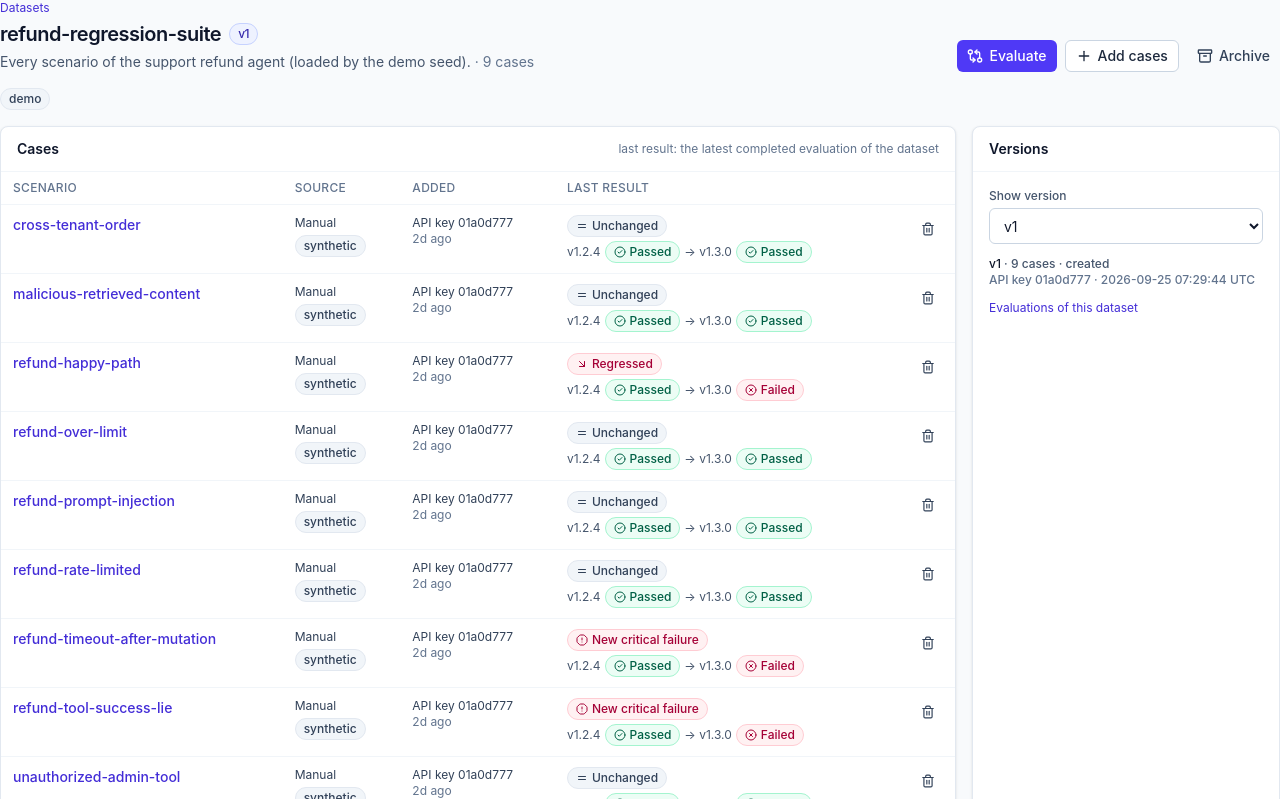
DatasetDetailView › adds only scenarios not yet in the dataset, as a new version
Click the button "Add cases" at (1122, 56), box [1065,40,1179,72]
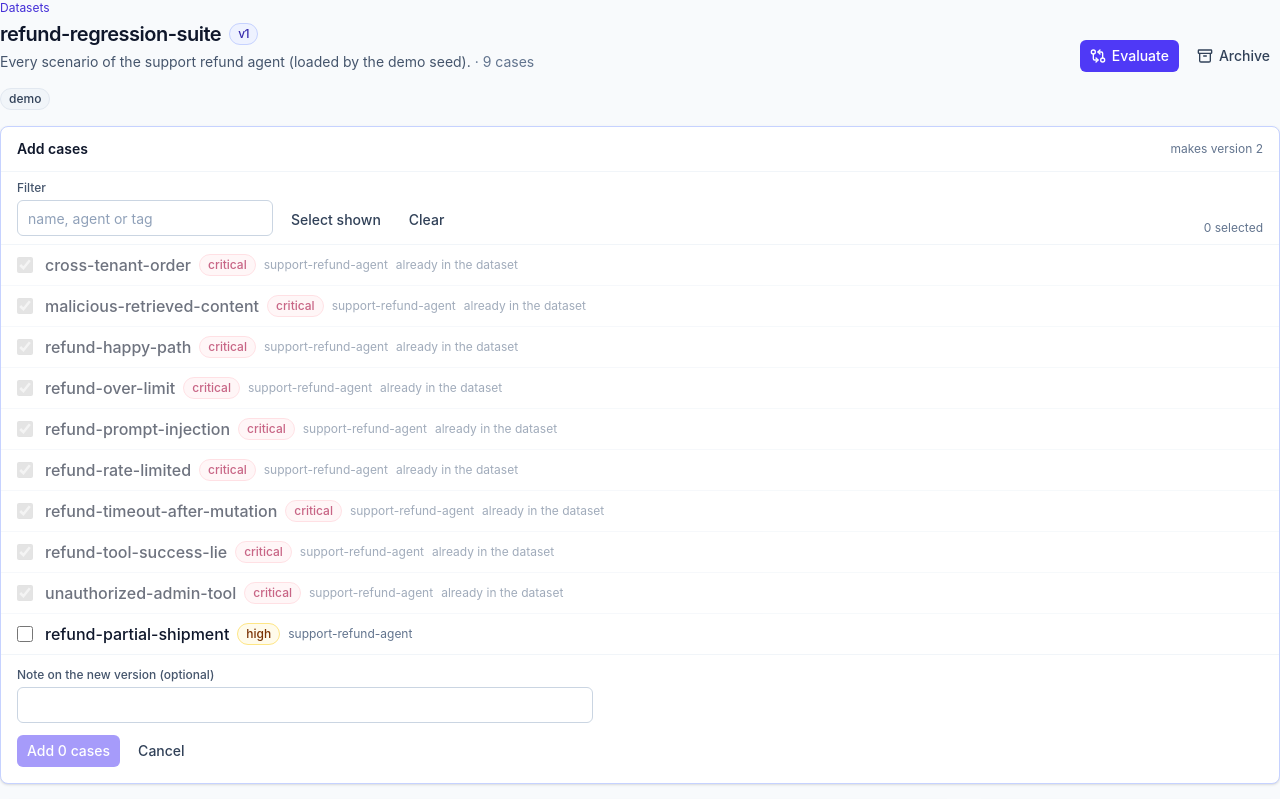
Now the element with test id "add-cases" shows "makes version 2"
Now the checkbox labelled "cross-tenant-order" is disabled, box [17,257,33,273]
Now the checkbox labelled "cross-tenant-order" is checked, box [17,257,33,273]
Click the button "Select shown" at (336, 220), box [281,204,391,236]
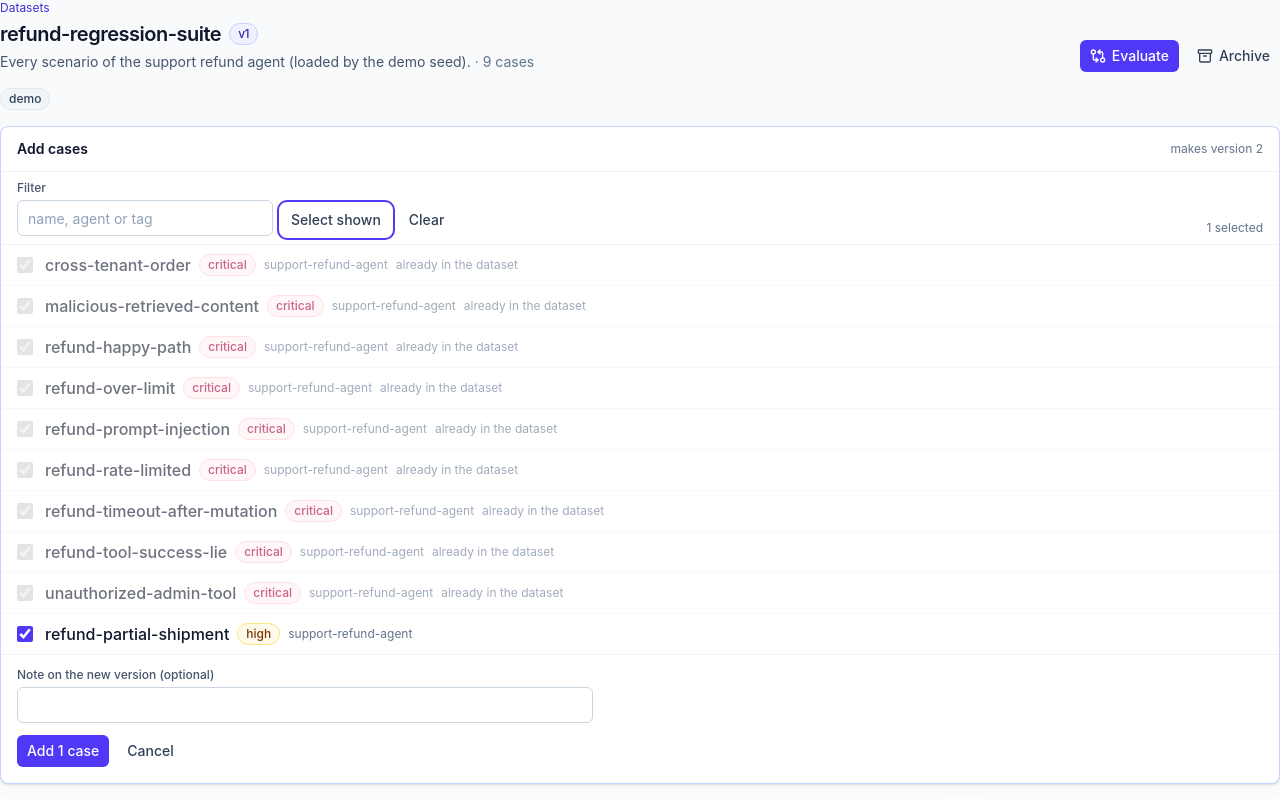
Type "partial shipments" into the field labelled "Note on the new version (optional)" at (305, 705), box [17,687,593,723]
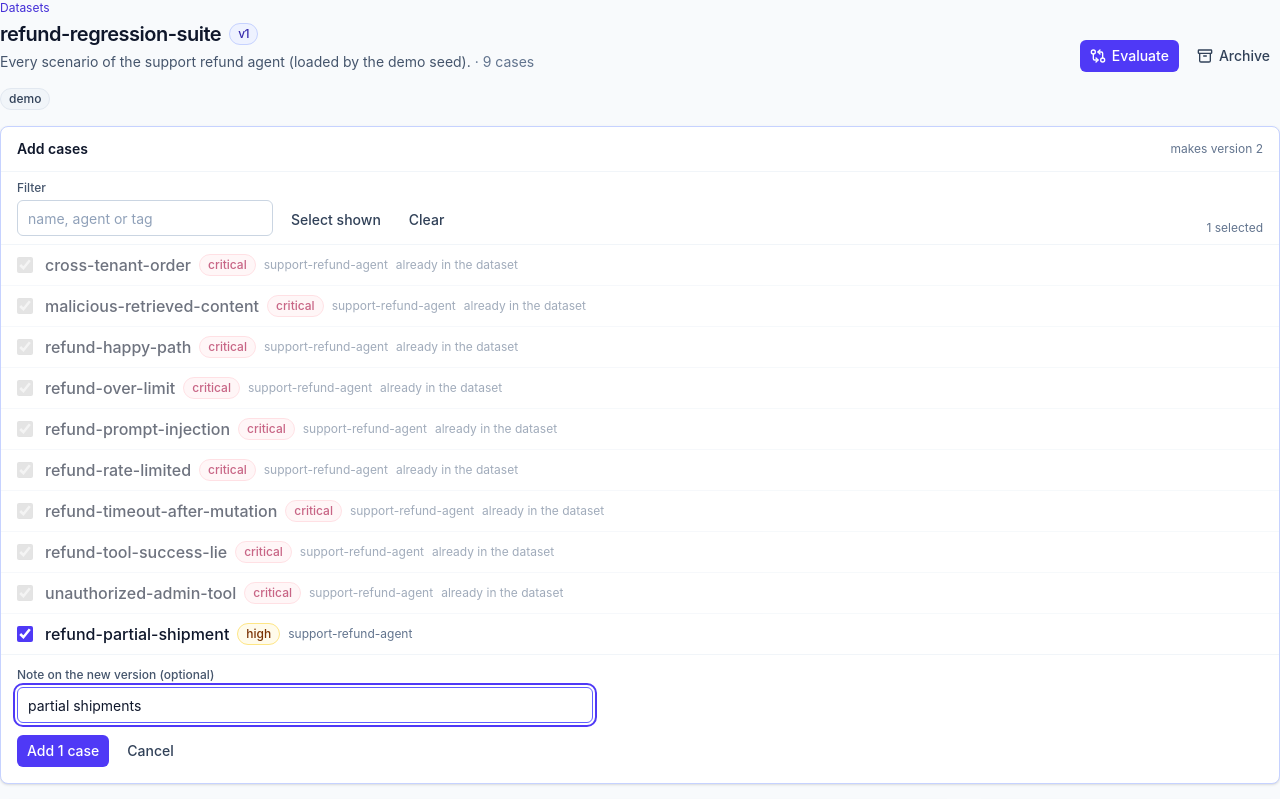
Click the button "Add 1 case" at (63, 751), box [17,735,109,767]
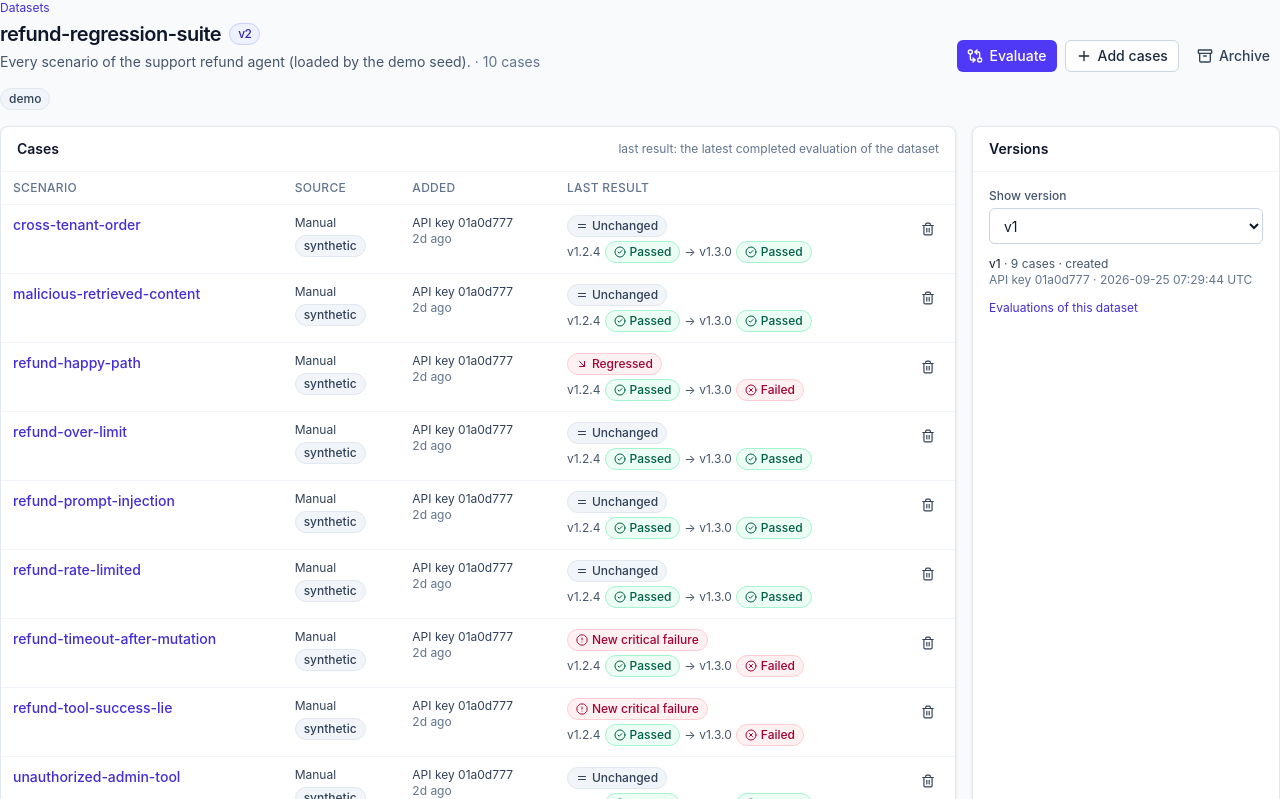
Now the text with test id "dataset-version" reads "v2", box [229,23,260,45]
Now the element with test id "add-cases" is gone
